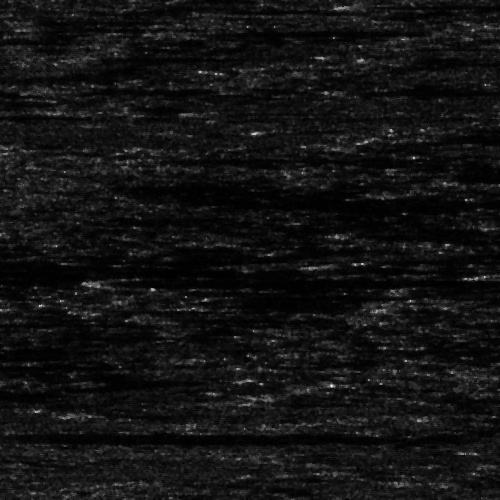object: (300, 0, 425, 10), (131, 27, 246, 36), (34, 52, 127, 63), (17, 86, 132, 93), (298, 83, 371, 92), (70, 277, 123, 288), (189, 109, 242, 114), (0, 427, 17, 442)
shadow: (0, 263, 500, 274), (0, 427, 327, 442), (97, 277, 451, 288), (81, 52, 262, 63), (189, 27, 377, 36), (334, 83, 500, 92), (363, 0, 500, 10), (75, 86, 218, 93), (0, 33, 67, 44), (216, 109, 331, 114)
